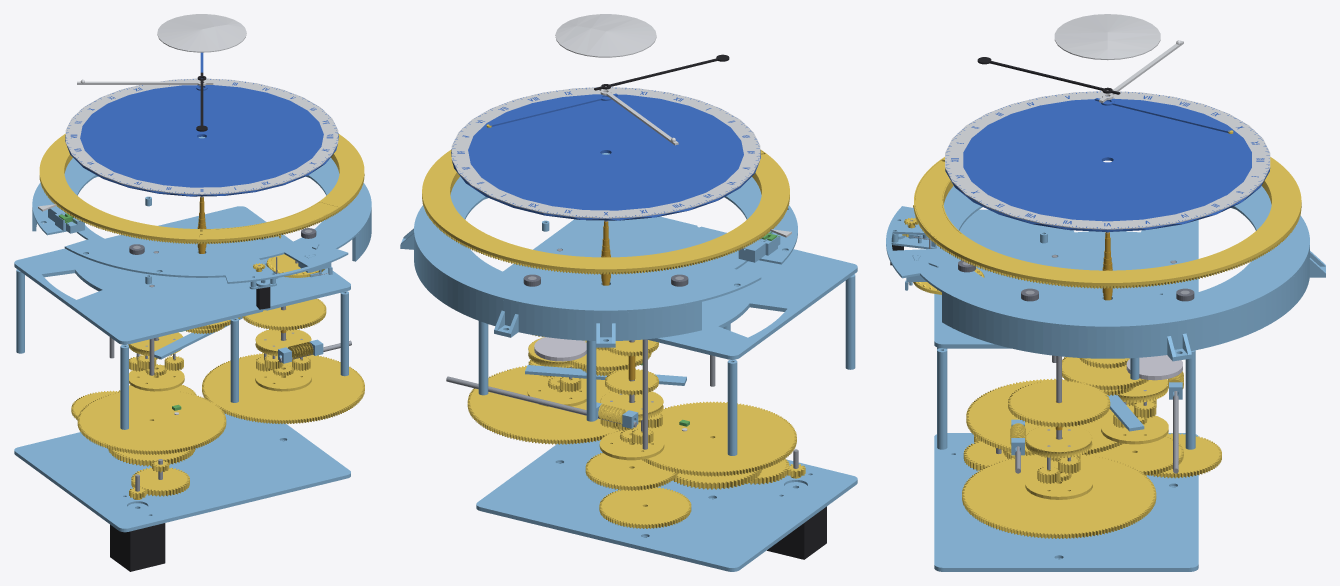
File: m2_main_dial_exploded.dae
The picture shows the model from 3 angles, left to right: view 1: azimuth 30°, elevation 25°; view 2: azimuth 150°, elevation 25°; view 3: azimuth 270°, elevation 25°; orthographic projection. The views are drawn at different scales.
Visible parts, largest first — view 1: dial_field, back_plate, front_plate, I_154, J_169, carrier_segment_2, dial_hour_ring, ring_segment_3, carrier_segment_1, hemisphere_dome, motor_nema17, ring_segment_0 (+20 smaller); view 2: dial_field, back_plate, front_plate, carrier_segment_0, I_154, dial_hour_ring, J_169, carrier_segment_1, ring_segment_2, ring_segment_3, hemisphere_dome, W_84 (+21 smaller); view 3: dial_field, back_plate, front_plate, carrier_segment_3, J_169, dial_hour_ring, carrier_segment_2, carrier_segment_0, ring_segment_1, hemisphere_dome, J_sleeve_88, I_154 (+15 smaller).
Boxes of the visible parts, box(x1,y1,x2,y2) form: dial_field: box(65, 79, 338, 196); back_plate: box(14, 413, 350, 532); front_plate: box(14, 206, 350, 344); I_154: box(77, 389, 226, 454); J_169: box(202, 353, 364, 423); carrier_segment_2: box(158, 204, 371, 283); dial_hour_ring: box(65, 78, 338, 194); ring_segment_3: box(39, 167, 195, 243); carrier_segment_1: box(32, 186, 168, 275); hemisphere_dome: box(157, 14, 246, 52); motor_nema17: box(110, 523, 165, 571); ring_segment_0: box(194, 173, 364, 244); dial_field: box(451, 87, 760, 220); back_plate: box(476, 440, 857, 571); front_plate: box(503, 216, 857, 359); carrier_segment_0: box(420, 245, 655, 347); I_154: box(631, 401, 796, 476); dial_hour_ring: box(451, 87, 760, 218); J_169: box(467, 365, 630, 444); carrier_segment_1: box(643, 208, 797, 338); ring_segment_2: box(442, 221, 690, 274); ring_segment_3: box(677, 156, 789, 265); hemisphere_dome: box(555, 14, 656, 57); W_84: box(599, 487, 691, 528); dial_field: box(945, 91, 1270, 231); back_plate: box(934, 433, 1198, 571); front_plate: box(934, 209, 1198, 348); carrier_segment_3: box(1006, 286, 1250, 361); J_169: box(962, 454, 1156, 538); dial_hour_ring: box(945, 91, 1270, 229); carrier_segment_2: box(886, 186, 1025, 347); carrier_segment_0: box(1215, 186, 1325, 333); ring_segment_1: box(1002, 239, 1270, 288); hemisphere_dome: box(1054, 14, 1160, 60); J_sleeve_88: box(1008, 380, 1110, 427); I_154: box(966, 378, 1133, 455).
Bounding box in the file's own units: 379 × 387 × 538.
